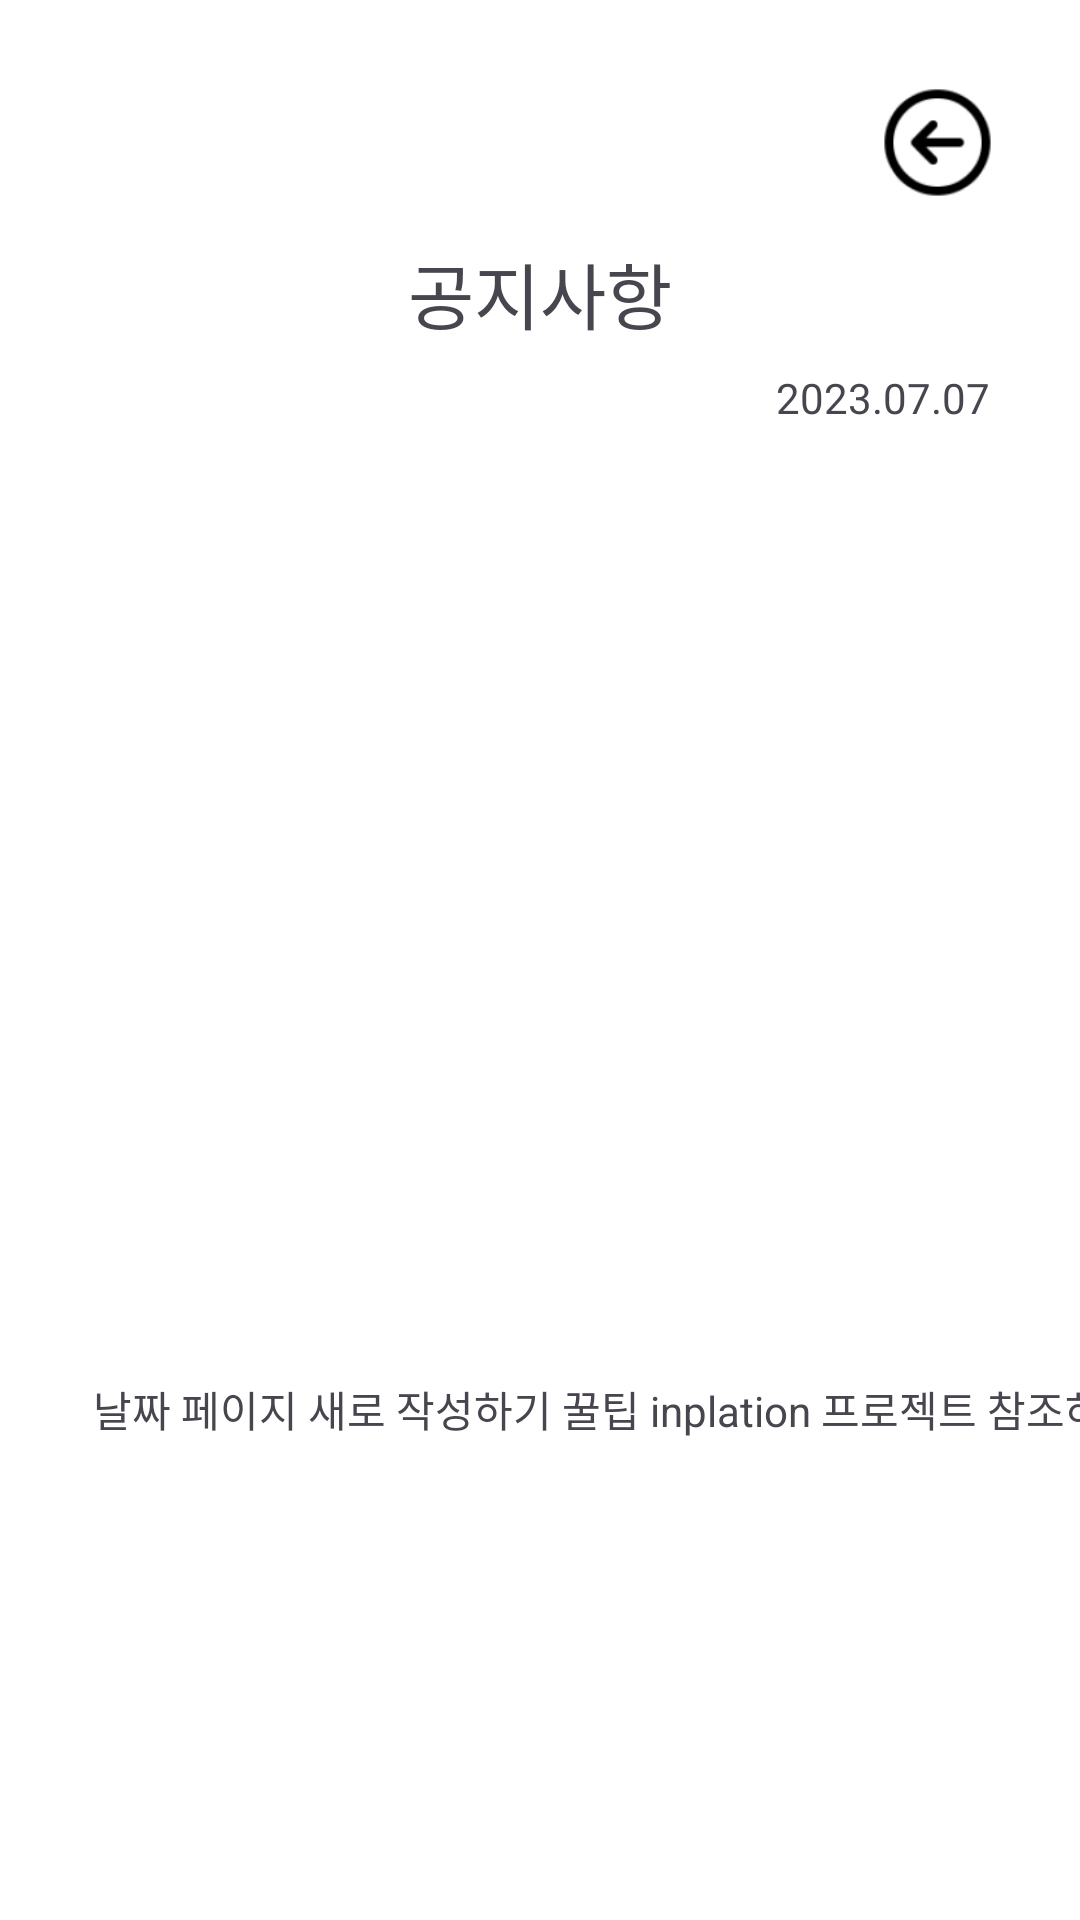

Point at icon controls on the screen. Image size 1080px×1920px, points as (x=x, y=y).
arrow: (x=937, y=142)
